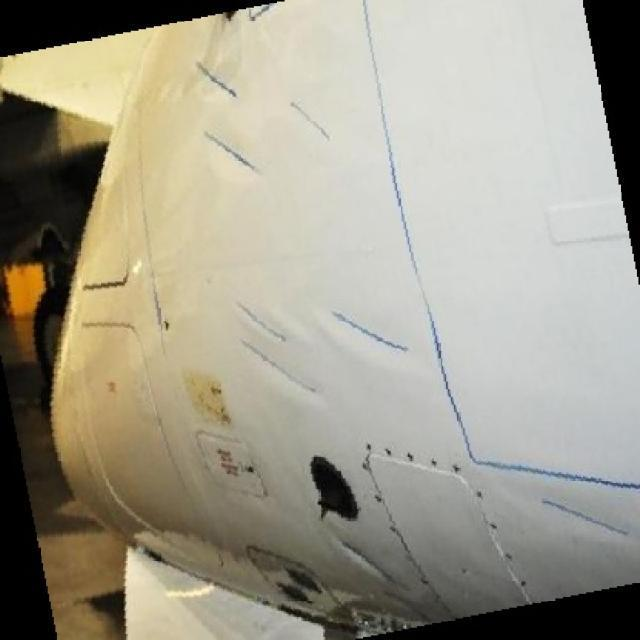dent: (234, 288, 320, 402), (528, 485, 634, 542), (323, 291, 409, 354), (331, 523, 400, 582), (203, 128, 268, 181)
